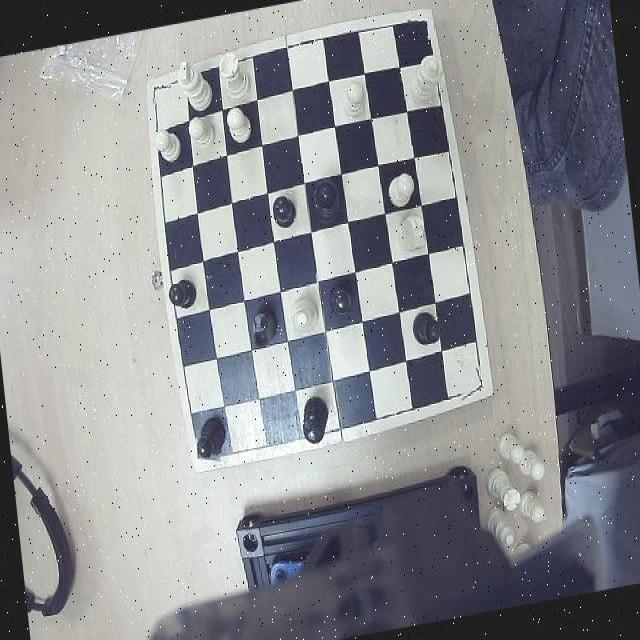chess-table-corners: (456, 365, 492, 403), (190, 434, 223, 470), (407, 10, 438, 44), (146, 76, 173, 108)
